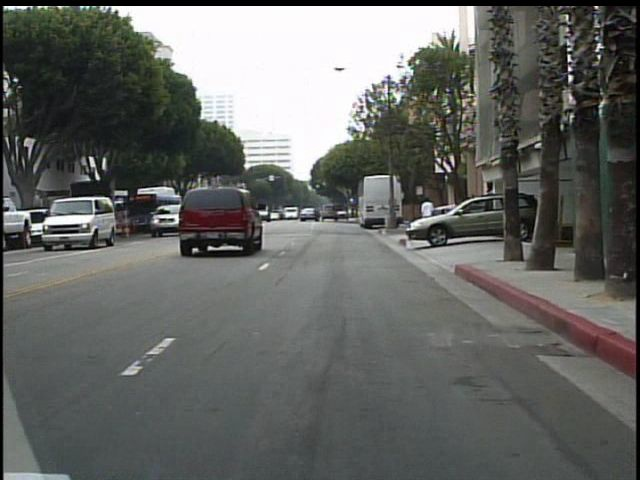person: (417, 194, 438, 238)
